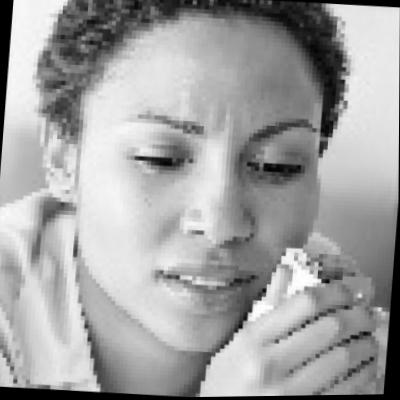sad: (47, 5, 335, 358)
